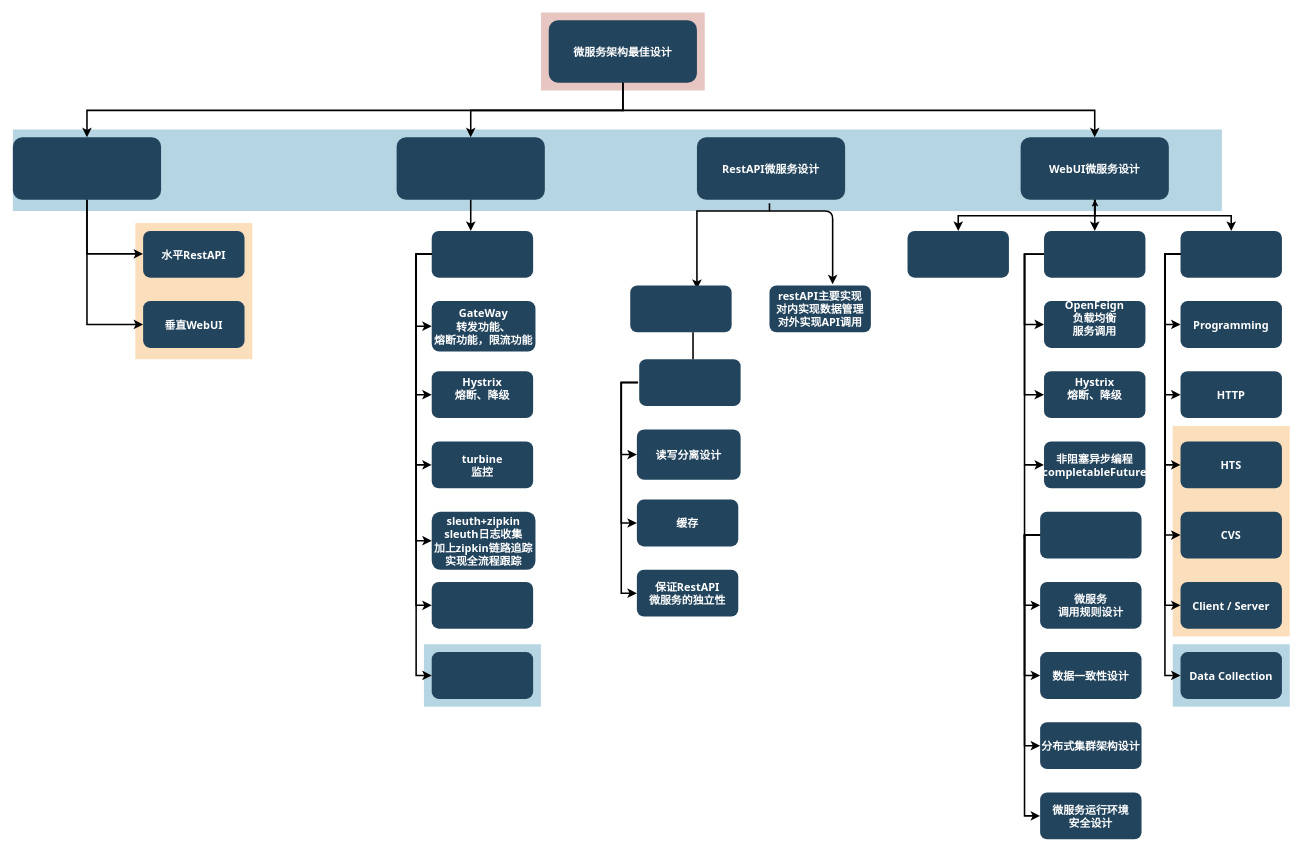
Some shapes in this 1303 by 852 pixel diagram are drawn without their labels. Each missing label, with the box of its shape:
nacos 服务注册、服务发现: (431, 230, 533, 277)
Webui主要实现 对RestAPI调用 用户界面设计: (907, 230, 1009, 277)
XMI: (1180, 230, 1282, 277)
分布式文件系统: (1040, 511, 1141, 558)
合理划分微服务: (12, 137, 161, 199)
微服务治理: (396, 137, 544, 199)
数据库集群: (639, 359, 740, 406)
高并发WebUI 微服务设计: (1044, 230, 1145, 277)
高性能RestAPI: (630, 285, 731, 332)
